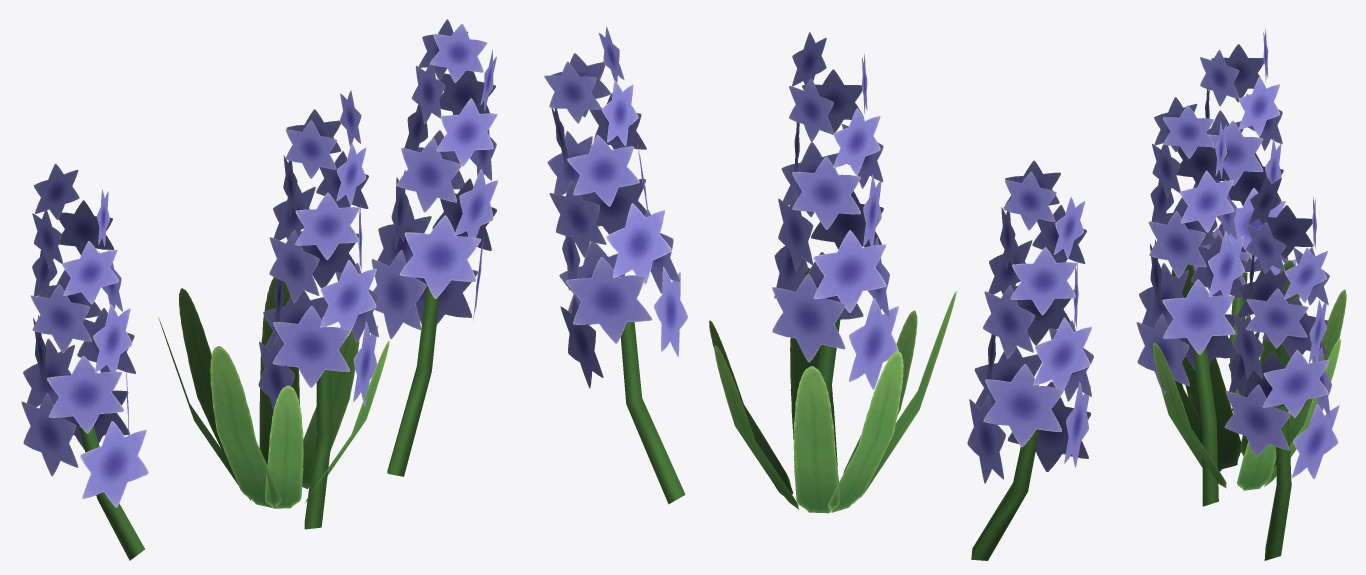
The model's file is flower-hyacinth.glb.
3 renders of one model, left to right at view 1: azimuth 30°, elevation 25°; view 2: azimuth 150°, elevation 25°; view 3: azimuth 270°, elevation 25°, orthographic. The views are drawn at different scales.
Parts seen in each view (by area): view 1: Flower; view 2: Flower; view 3: Flower.
Part boxes in pixels (bbox=[...]): Flower: bbox=[21, 19, 498, 560]; Flower: bbox=[544, 26, 1093, 560]; Flower: bbox=[1136, 28, 1346, 560].
Size of the model in its own units: 0.6081 by 0.5161 by 0.2476.
Materials: 1 (1 with a texture image).
